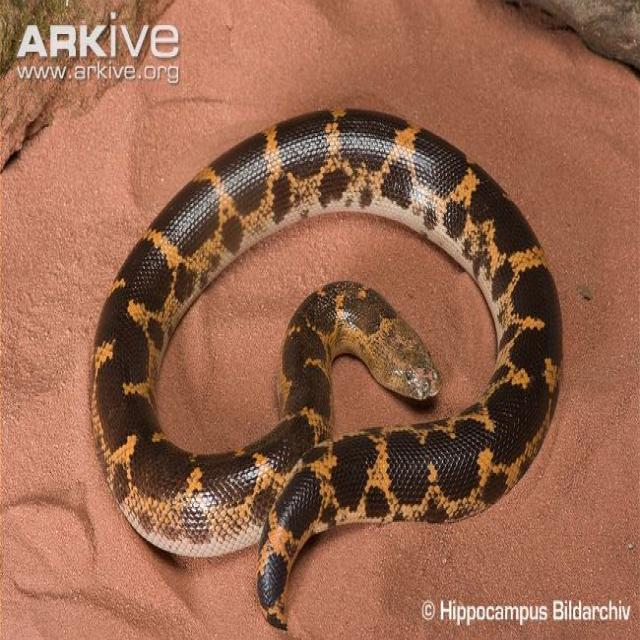Snake: (88, 105, 562, 630)
